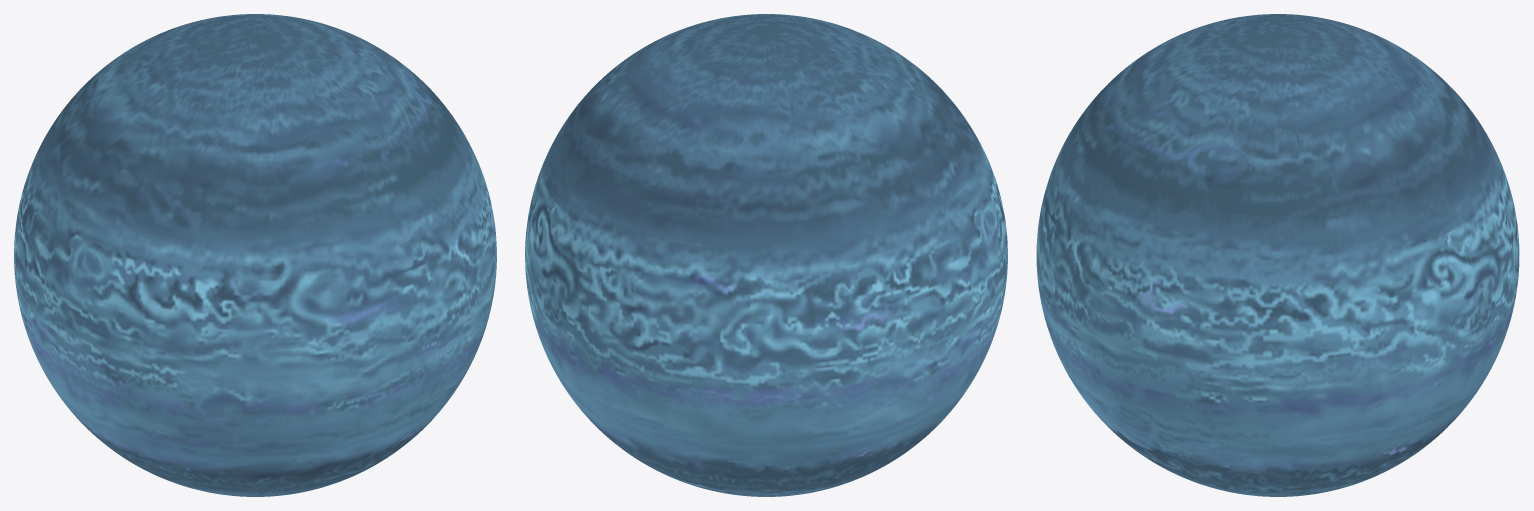
3 views of the same model, side by side, from view 1: azimuth 30°, elevation 25°; view 2: azimuth 150°, elevation 25°; view 3: azimuth 270°, elevation 25° (orthographic).
Visible parts, largest first — view 1: GJ_1214_b; view 2: GJ_1214_b; view 3: GJ_1214_b.
Part boxes in pixels (<box>): GJ_1214_b: <box>14,14,496,496</box>; GJ_1214_b: <box>525,14,1007,496</box>; GJ_1214_b: <box>1036,14,1519,496</box>.
Size of the model in its own units: 2 by 2 by 2.
1 material, 1 textured.
